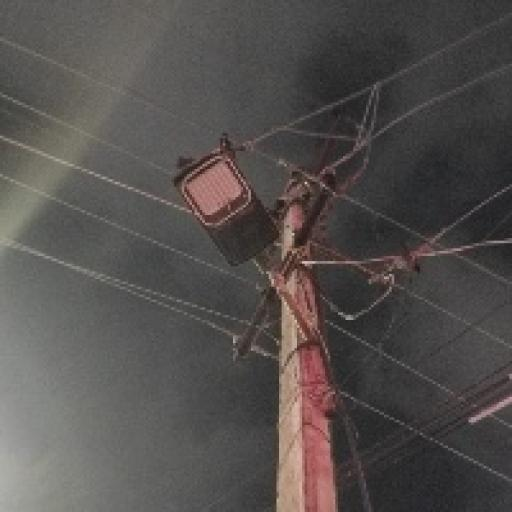Not Working: (164, 141, 293, 273)
